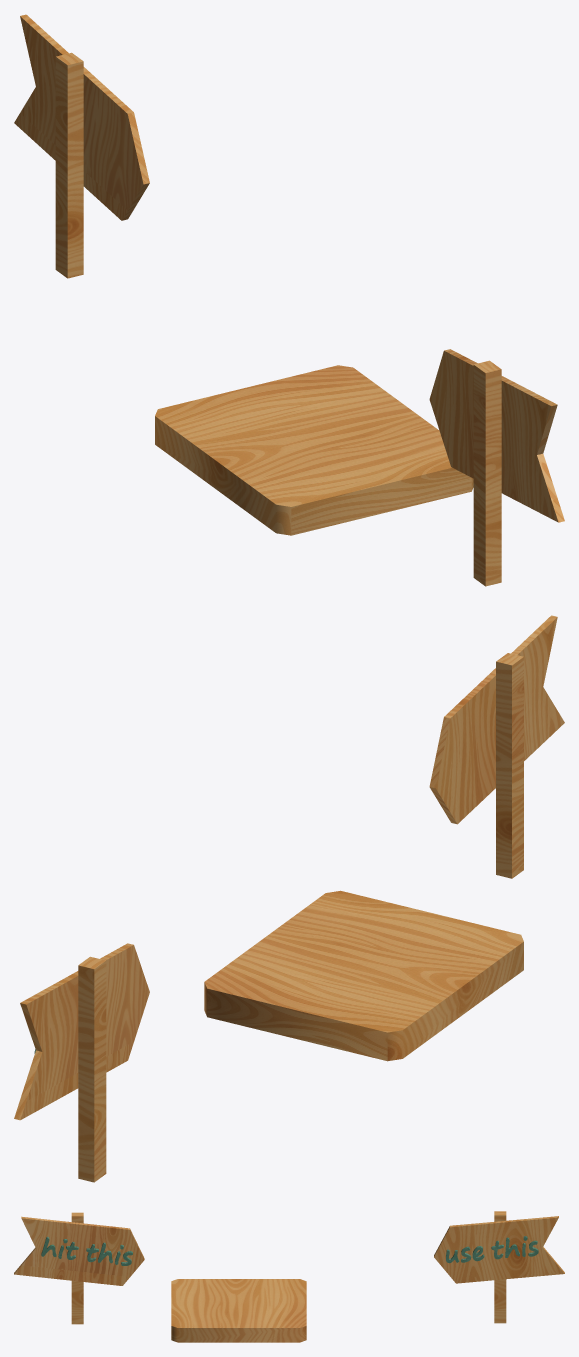
File: Armour_Stand.fbx
3 renders of one model, top to bottom at view 1: azimuth 30°, elevation 25°; view 2: azimuth 150°, elevation 25°; view 3: azimuth 270°, elevation 25°, orthographic. The views are drawn at different scales.
Parts seen in each view (by area): view 1: Armour_Stand, Armour_Stand_Sign2, Armour_Stand_Sign1; view 2: Armour_Stand, Armour_Stand_Sign1, Armour_Stand_Sign2; view 3: Armour_Stand, Armour_Stand_Sign1, Armour_Stand_Sign2.
Part boxes in pixels (x1=…): Armour_Stand: x1=155, y1=365, x2=473, y2=535; Armour_Stand_Sign2: x1=14, y1=14, x2=149, y2=278; Armour_Stand_Sign1: x1=429, y1=349, x2=564, y2=586; Armour_Stand: x1=204, y1=890, x2=523, y2=1061; Armour_Stand_Sign1: x1=429, y1=615, x2=564, y2=878; Armour_Stand_Sign2: x1=14, y1=943, x2=149, y2=1182; Armour_Stand: x1=171, y1=1279, x2=306, y2=1342; Armour_Stand_Sign1: x1=14, y1=1212, x2=144, y2=1324; Armour_Stand_Sign2: x1=434, y1=1211, x2=564, y2=1323.
Size of the model in its own units: 61.29 by 63.58 by 291.
